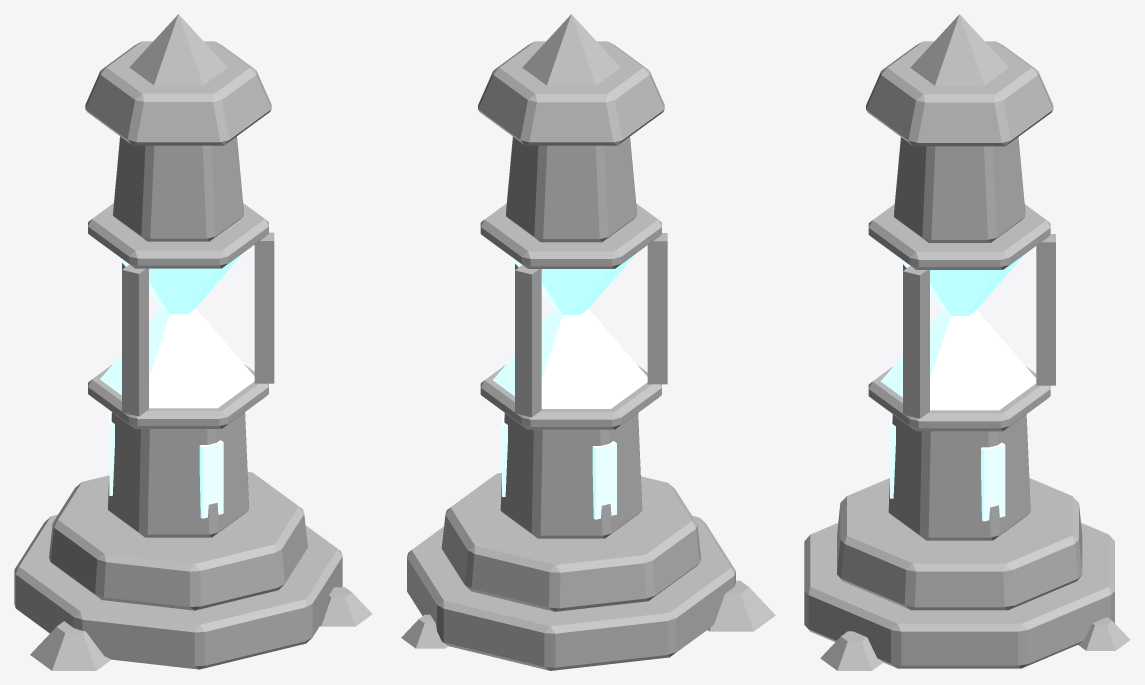
File: d20_prior_pillar.gltf
The picture shows the model from 3 angles, left to right: view 1: azimuth 30°, elevation 25°; view 2: azimuth 150°, elevation 25°; view 3: azimuth 270°, elevation 25°; orthographic projection.
Parts seen in each view (by area): view 1: plinth_high, plinth_low, shaft_low, cap, shaft_high, glass_low, ring_high, tip, cage_1, ring_low, cage_2, glass_high (+3 smaller); view 2: plinth_low, plinth_high, shaft_low, cap, shaft_high, glass_low, ring_high, tip, cage_0, ring_low, cage_1, glass_high (+3 smaller); view 3: plinth_low, plinth_high, shaft_low, cap, shaft_high, glass_low, ring_high, tip, cage_2, ring_low, cage_0, glass_high (+3 smaller).
Part boxes in pixels (box(x1,y1,x2,y2)): plinth_high: box(49, 472, 307, 610); plinth_low: box(14, 514, 342, 669); shaft_low: box(108, 412, 248, 537); cap: box(85, 41, 271, 145); shaft_high: box(113, 136, 243, 241); glass_low: box(100, 308, 254, 408); ring_high: box(88, 203, 268, 268); tip: box(129, 14, 227, 85); cage_1: box(122, 264, 148, 416); ring_low: box(88, 364, 268, 428); cage_2: box(254, 232, 274, 383); glass_high: box(114, 253, 242, 314); plinth_low: box(407, 515, 735, 670); plinth_high: box(441, 473, 701, 611); shaft_low: box(500, 413, 642, 538); cap: box(478, 41, 664, 145); shaft_high: box(506, 137, 636, 242); glass_low: box(493, 309, 647, 408); ring_high: box(480, 203, 661, 268); tip: box(522, 14, 620, 85); cage_0: box(515, 265, 541, 417); ring_low: box(480, 365, 661, 429); cage_1: box(647, 233, 667, 384); glass_high: box(507, 254, 635, 314); plinth_low: box(804, 523, 1114, 668); plinth_high: box(837, 478, 1082, 610); shaft_low: box(888, 414, 1030, 540); cap: box(866, 41, 1053, 146); shaft_high: box(894, 137, 1025, 242); glass_low: box(880, 310, 1036, 410); ring_high: box(868, 204, 1050, 269); tip: box(910, 14, 1008, 85); cage_2: box(903, 266, 929, 418); ring_low: box(868, 366, 1050, 431); cage_0: box(1036, 234, 1055, 385); glass_high: box(894, 254, 1024, 315).
Bounding box in the file's own units: 0.7022 × 1.32 × 0.6599.
